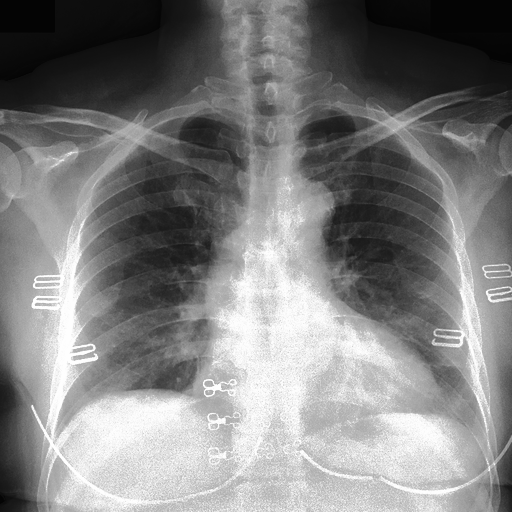Consolidation: (278, 179, 339, 239)
Nodule/Mass: (189, 327, 437, 413)
